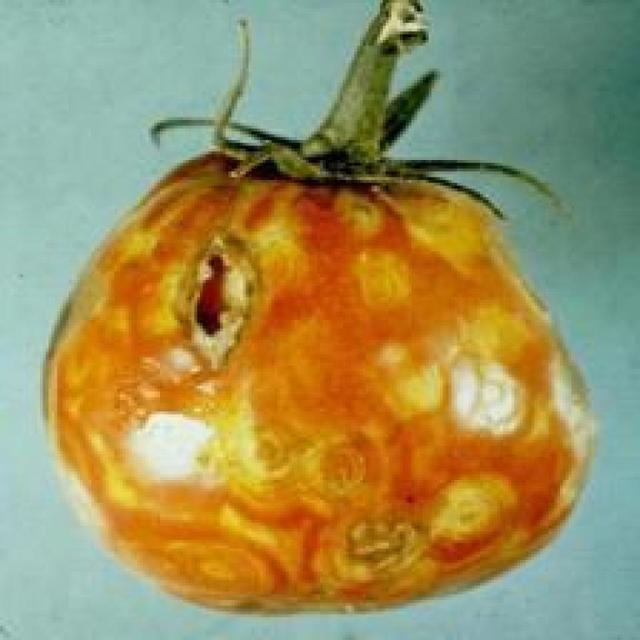Spotted wilt Virus Fruit: (30, 97, 396, 412)
